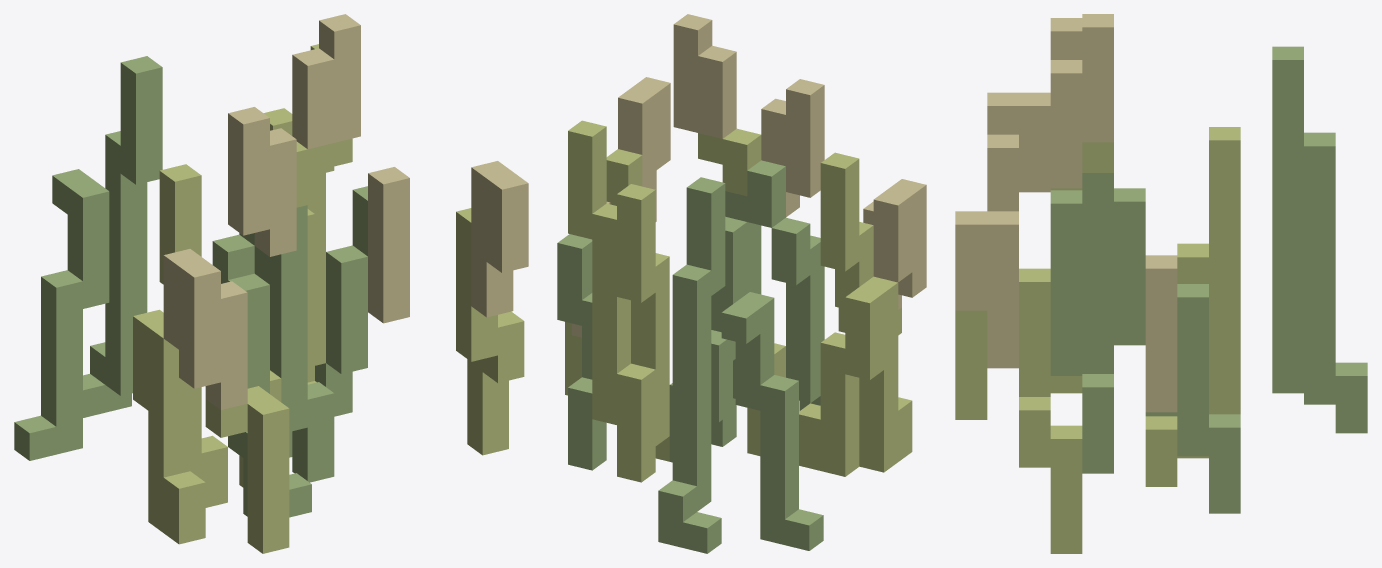
File: swamp_reeds.glb
3 views of the same model, side by side, from view 1: azimuth 30°, elevation 25°; view 2: azimuth 150°, elevation 25°; view 3: azimuth 270°, elevation 25° (orthographic). The views are drawn at different scales.
Bounding box in the file's own units: 0.7 × 0.8 × 0.65.
